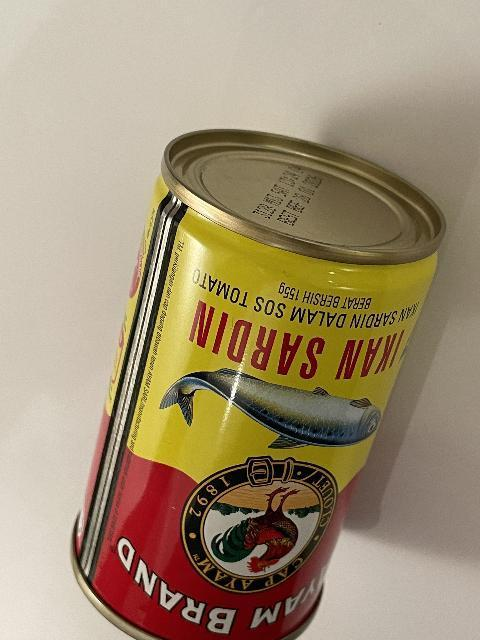foodcan: (69, 128, 447, 640)
